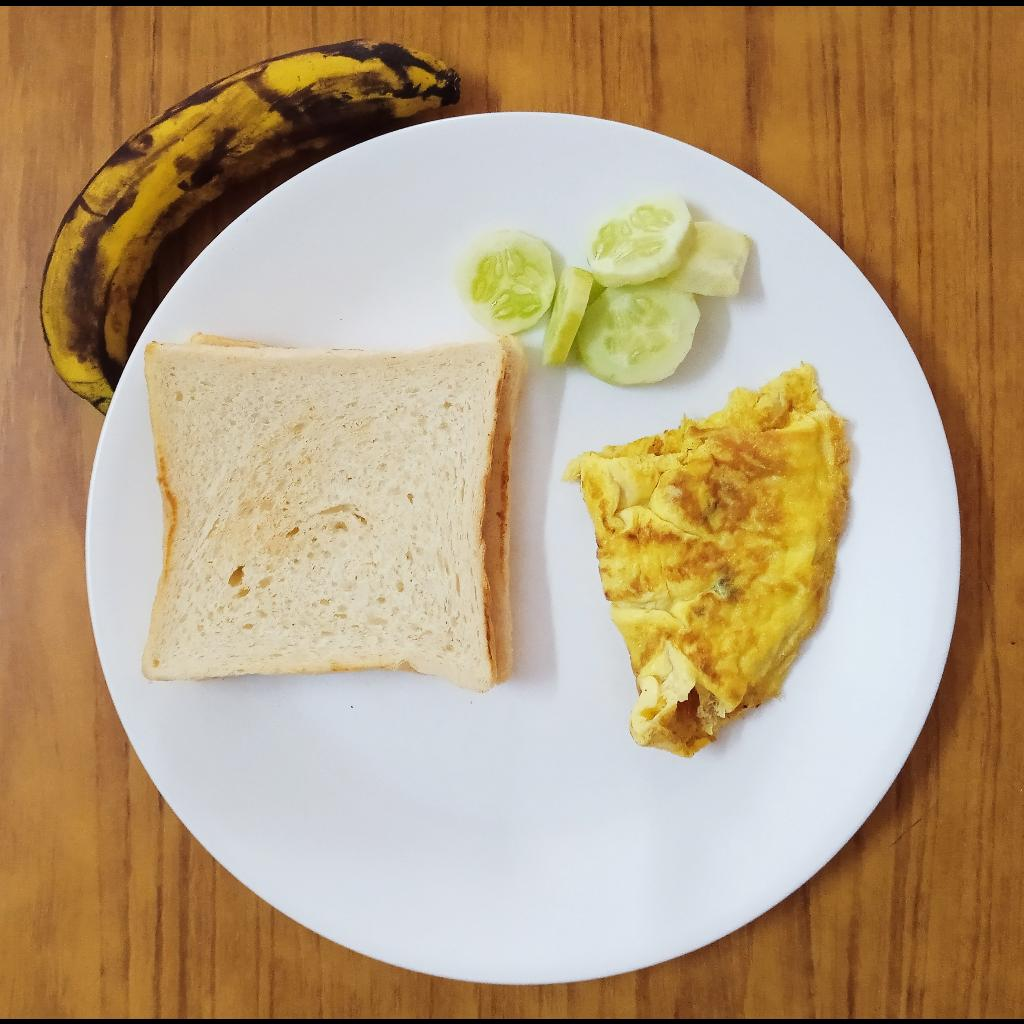banana: (39, 31, 462, 417)
bread: (132, 330, 528, 695)
cucumber: (452, 195, 749, 390)
egg-poached: (564, 359, 854, 759)
